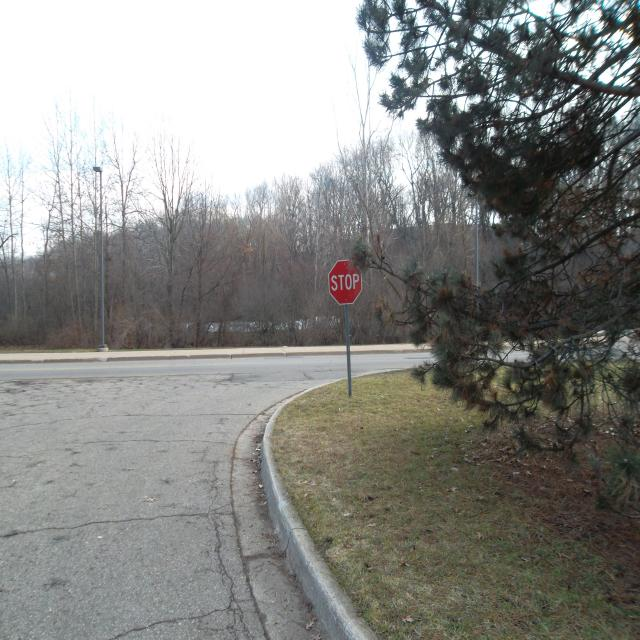stop: (327, 258, 362, 305)
